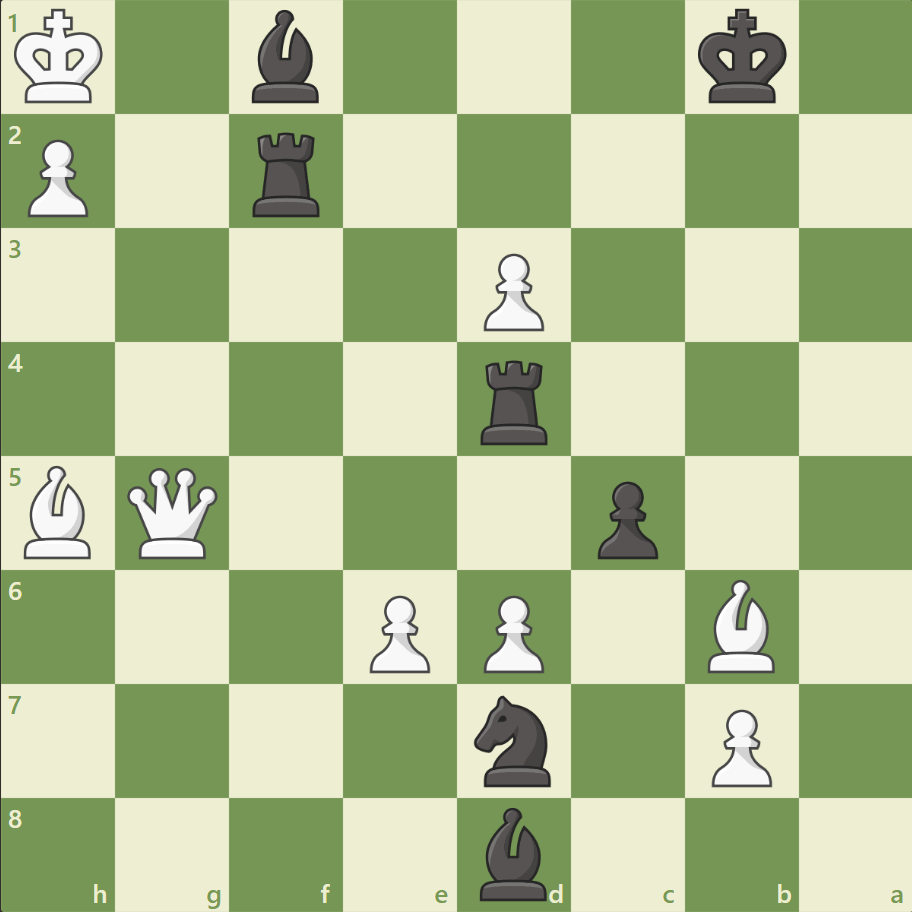B: (17, 460, 101, 563), (698, 574, 782, 676)
K: (11, 4, 111, 112)
P: (701, 700, 776, 791), (474, 586, 549, 677), (474, 246, 549, 337), (20, 132, 95, 223), (361, 586, 435, 677)
Q: (124, 463, 223, 562)
b: (471, 801, 555, 904), (244, 6, 328, 109)
k: (692, 4, 792, 112)
n: (465, 688, 562, 791)
p: (588, 473, 662, 564)
r: (473, 352, 556, 449), (246, 125, 329, 222)
